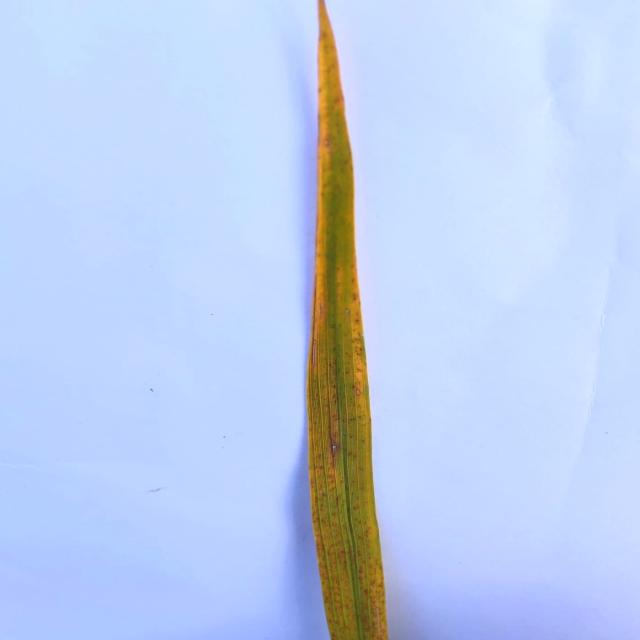tungro: (308, 0, 391, 640)
